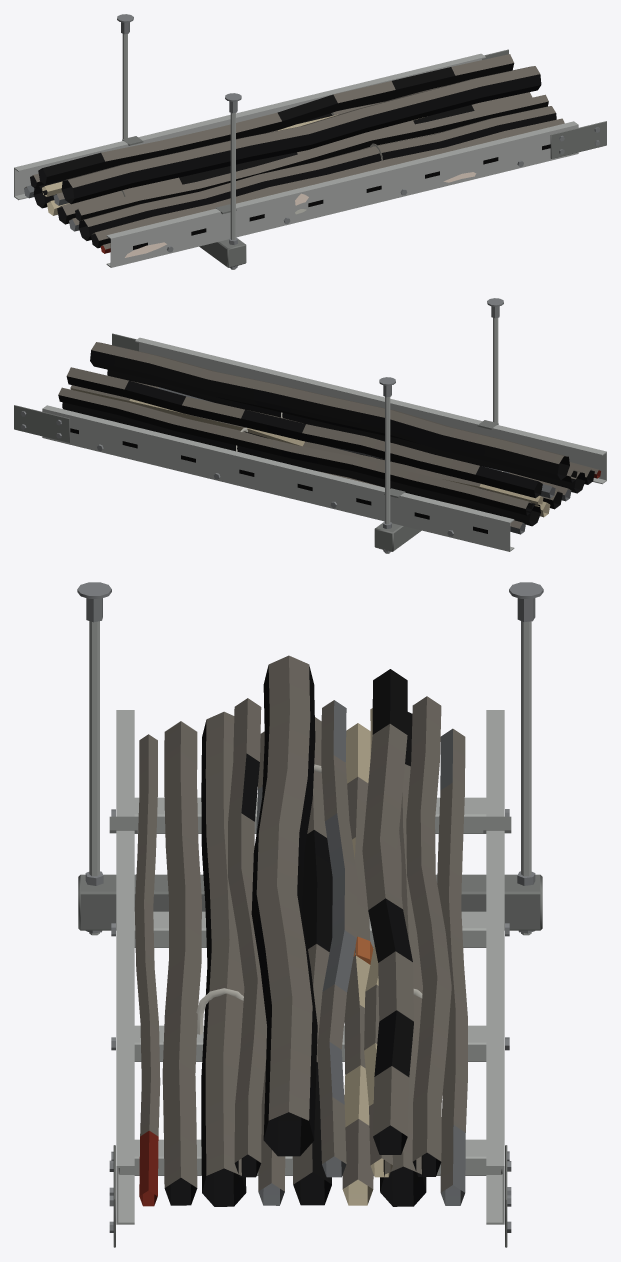
Rendered from cable_tray@1.glb.
3 renders of one model, top to bottom at view 1: azimuth 30°, elevation 25°; view 2: azimuth 150°, elevation 25°; view 3: azimuth 270°, elevation 25°, orthographic. The views are drawn at different scales.
Visible parts, largest first — view 1: teil.006, teil.008, teil, teil.003, teil.002, teil.001, teil.005, teil.010; view 2: teil.008, teil, teil.006, teil.003, teil.010, teil.002, teil.009, teil.001; view 3: teil.006, teil, teil.008, teil.003, teil.009, teil.010, teil.002, teil.007.
Part boxes in pixels (left/top/right/bottom): teil.006: left=25, top=54, right=564, bottom=249; teil.008: left=30, top=63, right=556, bottom=248; teil: left=14, top=34, right=578, bottom=269; teil.003: left=122, top=49, right=606, bottom=267; teil.002: left=117, top=14, right=600, bottom=268; teil.001: left=133, top=144, right=550, bottom=266; teil.005: left=125, top=172, right=476, bottom=257; teil.010: left=42, top=114, right=422, bottom=215; teil.008: left=58, top=350, right=594, bottom=526; teil: left=42, top=318, right=606, bottom=553; teil.006: left=58, top=342, right=600, bottom=528; teil.003: left=14, top=333, right=498, bottom=551; teil.010: left=70, top=388, right=550, bottom=517; teil.002: left=20, top=298, right=503, bottom=552; teil.009: left=109, top=387, right=571, bottom=534; teil.001: left=70, top=428, right=487, bottom=550; teil.006: left=134, top=655, right=467, bottom=1192; teil: left=89, top=621, right=531, bottom=1224; teil.008: left=164, top=665, right=441, bottom=1206; teil.003: left=78, top=816, right=542, bottom=1247; teil.009: left=256, top=700, right=465, bottom=1205; teil.010: left=342, top=708, right=392, bottom=1205; teil.002: left=77, top=582, right=543, bottom=1232; teil.007: left=139, top=1130, right=158, bottom=1206.
Bounding box in the file's own units: 1.06 × 0.352 × 0.432.
